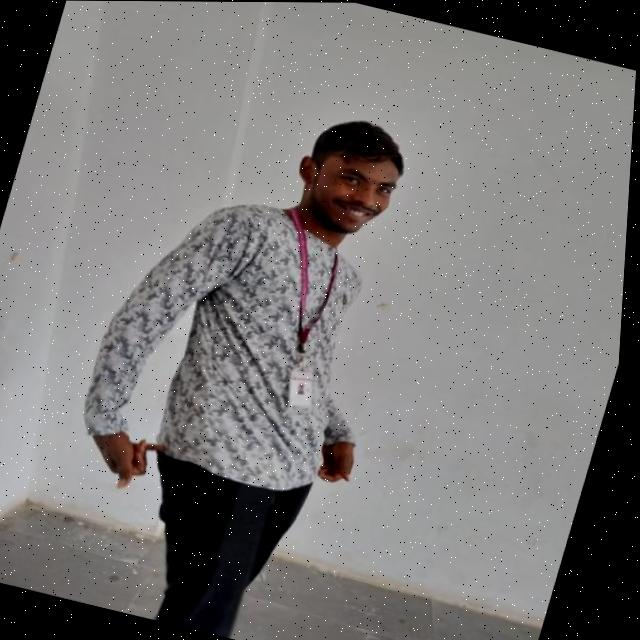id_card: (236, 200, 376, 416)
